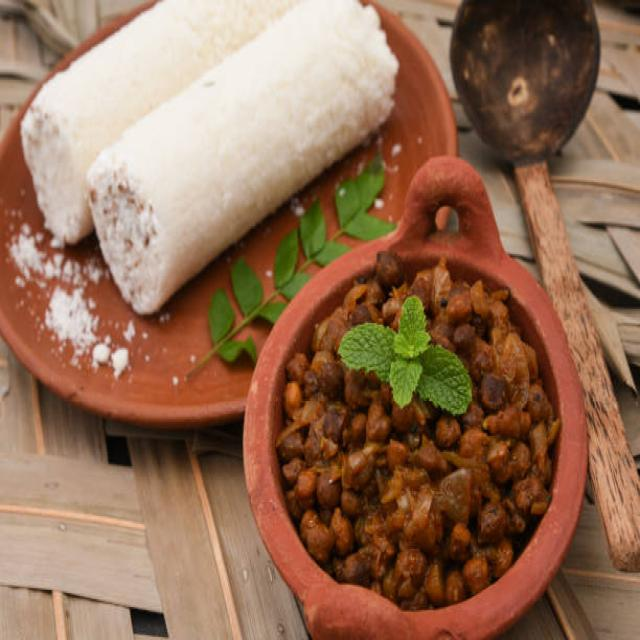CURRY: (278, 247, 564, 604)
PUTTU: (19, 1, 403, 319)
